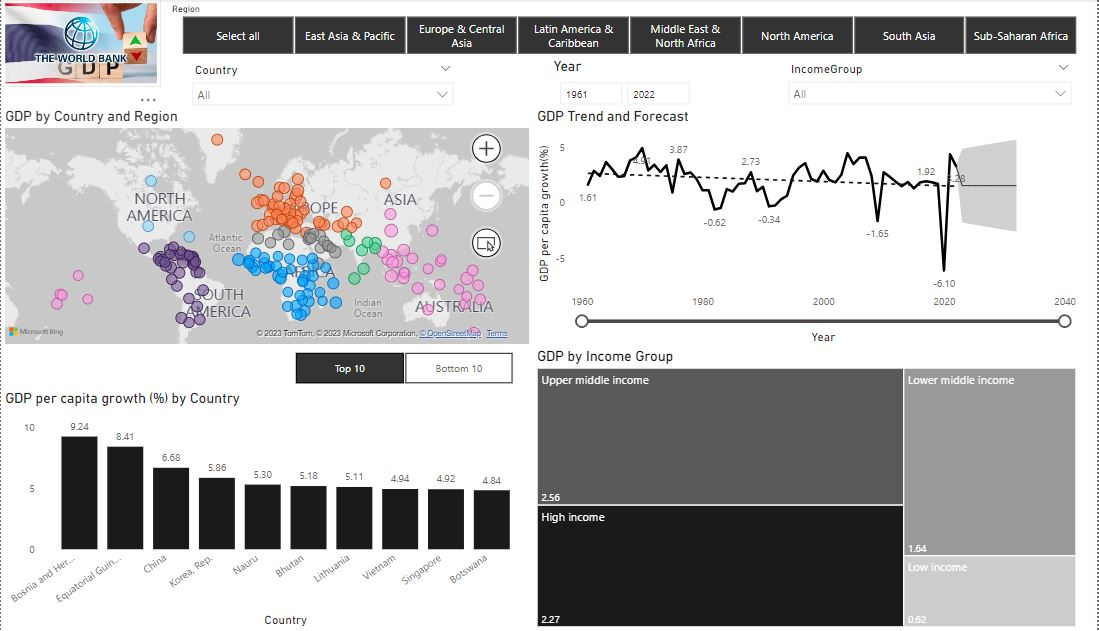

The dashboard page shown, as its layout file describes it:
{"tool":"powerbi","page":{"name":"World Bank GDP Analaysis","canvas":[1300,750],"ordinal":0},"visuals":[{"type":"image","box":[0,0,190,105],"z":0},{"type":"lineChart","title":"GDP Trend and Forecast","fields":{"Y":["Avg(GDP per capita growth (annual %).Value)"],"Category":["GDP per capita growth (annual %).Year"]},"box":[631,129,649,285],"z":1000},{"type":"slicer","fields":{"Values":["Table.Metric"]},"box":[324.3,413.5,307.2,49.9],"z":2000},{"type":"slicer","fields":{"Values":["each country metadata.Region"]},"box":[190,0,1110,70],"z":3000},{"type":"treemap","title":"GDP by Income Group","fields":{"Group":["each country metadata.IncomeGroup"],"Values":["Avg(GDP per capita growth (annual %).Value)"]},"box":[631.3,414.2,649.1,335.8],"z":4000},{"type":"map","title":"GDP by Country and Region","fields":{"Series":["each country metadata.Region"],"Category":["each country metadata.Country"],"Size":["Avg(GDP per capita growth (annual %).Value)"]},"box":[0,129,631,285],"z":5000},{"type":"slicer","title":"Year","fields":{"Values":["GDP per capita growth (annual %).Year"]},"box":[650,70,178,59],"z":6000},{"type":"slicer","fields":{"Values":["each country metadata.IncomeGroup"]},"box":[924.4,69.8,355.6,59.5],"z":7000},{"type":"clusteredColumnChart","title":"GDP per capita growth (%) by Country","fields":{"Category":["each country metadata.Country"],"Y":["GDP per capita growth (annual %).Measure"]},"box":[0,464,631.3,286],"z":8000},{"type":"slicer","fields":{"Values":["each country metadata.Country"]},"box":[217.5,70.8,329.5,57.9],"z":9000}]}

Visuals, with their boxes in screenshot pixels (x1, y1, x2, y2), scaled from the page's 1300x750 canvas onto the 1099x631 screenshot:
image: <region>0, 0, 161, 88</region>
"GDP Trend and Forecast" lineChart: <region>533, 109, 1082, 348</region>
slicer - Table.Metric: <region>274, 348, 534, 390</region>
slicer - each country metadata.Region: <region>161, 0, 1098, 59</region>
"GDP by Income Group" treemap: <region>534, 348, 1082, 630</region>
"GDP by Country and Region" map: <region>0, 109, 533, 348</region>
"Year" slicer: <region>550, 59, 700, 109</region>
slicer - each country metadata.IncomeGroup: <region>781, 59, 1082, 109</region>
"GDP per capita growth (%) by Country" clusteredColumnChart: <region>0, 390, 534, 630</region>
slicer - each country metadata.Country: <region>184, 60, 462, 108</region>
